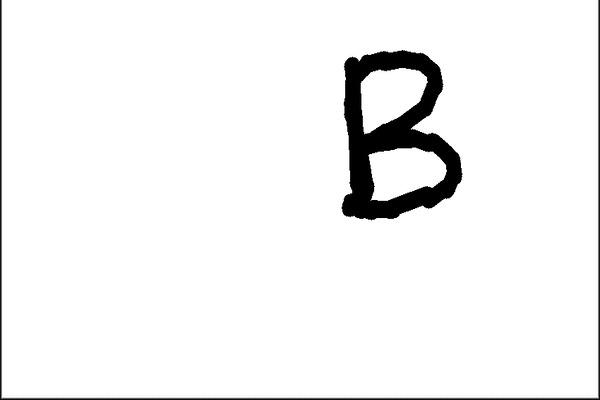B: (324, 40, 472, 226)
